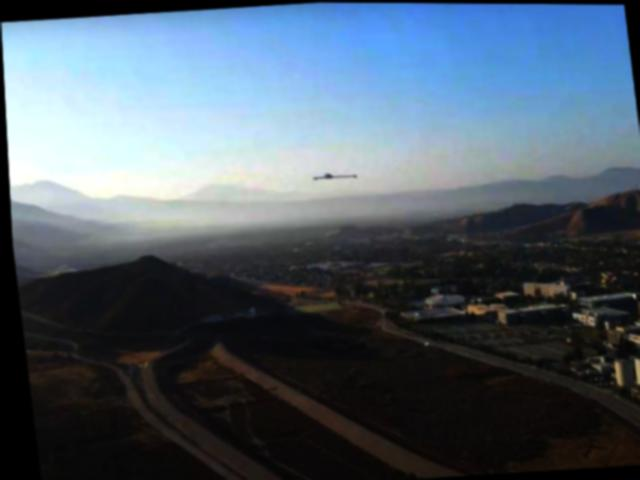iha: (308, 168, 357, 183)
